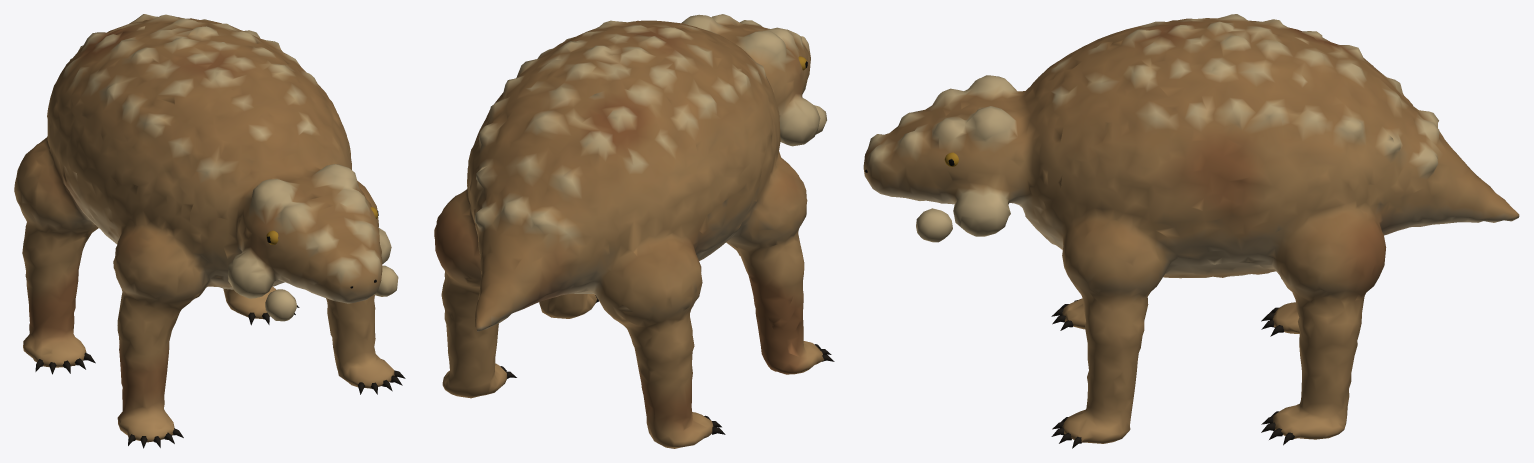
The model's file is Bunostegos.fbx.
3 renders of one model, left to right at view 1: azimuth 30°, elevation 25°; view 2: azimuth 150°, elevation 25°; view 3: azimuth 270°, elevation 25°, orthographic. The views are drawn at different scales.
Visible parts, largest first — view 1: Bunostegos; view 2: Bunostegos; view 3: Bunostegos.
Part boxes in pixels (<box>): Bunostegos: <box>14,14,405,448</box>; Bunostegos: <box>434,14,834,448</box>; Bunostegos: <box>863,14,1519,448</box>.
Bounding box in the file's own units: 0.7157 × 0.8148 × 1.38.
